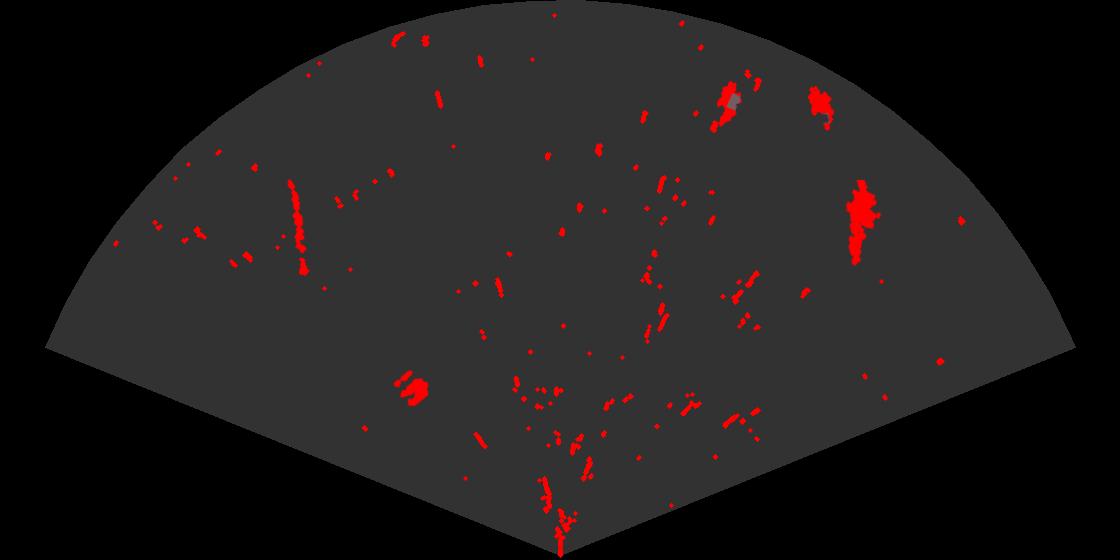AUV: (806, 84, 836, 133), (715, 79, 744, 128)
ball: (392, 369, 430, 408)
chain: (286, 177, 311, 277)
frogman: (844, 180, 883, 268)
